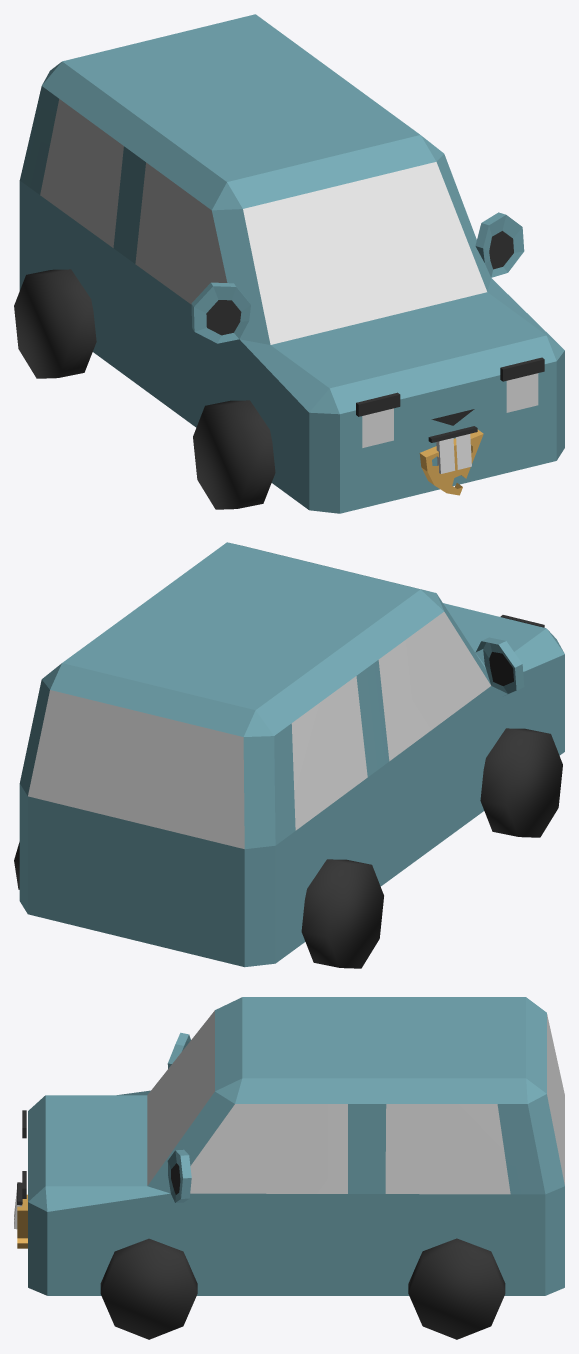
The model's file is car01.gltf.
3 renders of one model, top to bottom at view 1: azimuth 30°, elevation 25°; view 2: azimuth 150°, elevation 25°; view 3: azimuth 270°, elevation 25°, orthographic. The views are drawn at different scales.
Visible parts, largest first — view 1: Cube, 平面; view 2: Cube; view 3: Cube, 平面.
Boxes of the visible parts, box(x1,y1,x2,y2) form: Cube: box(14, 14, 564, 513); 平面: box(419, 429, 483, 495); Cube: box(14, 542, 564, 968); Cube: box(14, 997, 564, 1339); 平面: box(17, 1194, 27, 1248).
Size of the model in its own units: 2.75 by 2.17 by 4.62.
